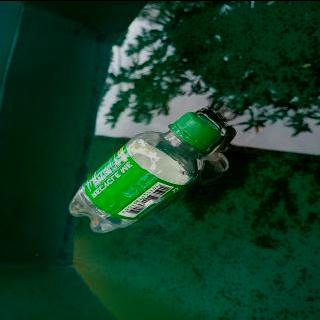bottle: (66, 109, 224, 234)
